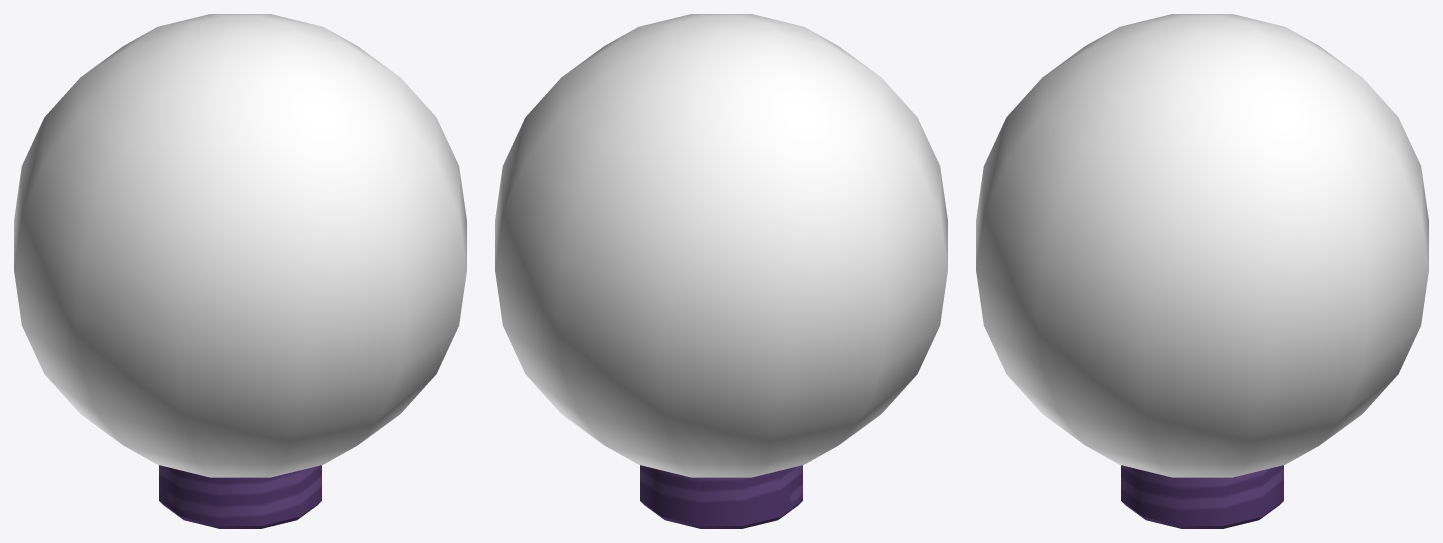
Rendered from OneShotbulb.fbx.
3 renders of one model, left to right at view 1: azimuth 30°, elevation 25°; view 2: azimuth 150°, elevation 25°; view 3: azimuth 270°, elevation 25°, orthographic.
Visible parts, largest first — view 1: Lightbulb; view 2: Lightbulb; view 3: Lightbulb.
Boxes of the visible parts, <box> form: Lightbulb: <box>14,14,466,528</box>; Lightbulb: <box>495,14,947,528</box>; Lightbulb: <box>976,14,1428,528</box>.
Size of the model in its own units: 0.3822 by 0.4311 by 0.3822.
Materials: 1 (1 with a texture image).
